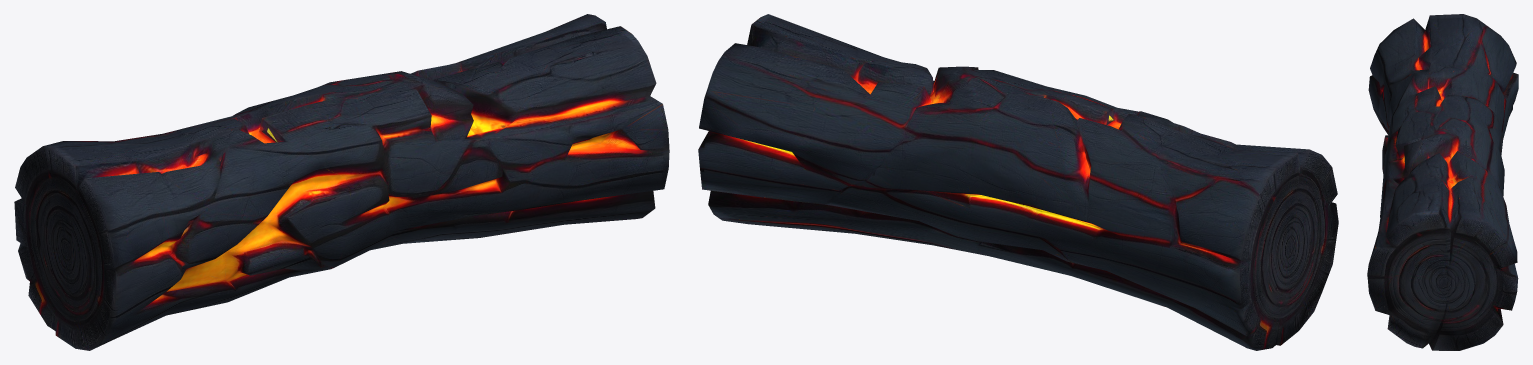
The model's file is prop-campfire-log.glb.
3 views of the same model, side by side, from view 1: azimuth 30°, elevation 25°; view 2: azimuth 150°, elevation 25°; view 3: azimuth 270°, elevation 25° (orthographic). The views are drawn at different scales.
Bounding box in the file's own units: 2 × 0.6566 × 0.6429.
1 material, 1 textured.
